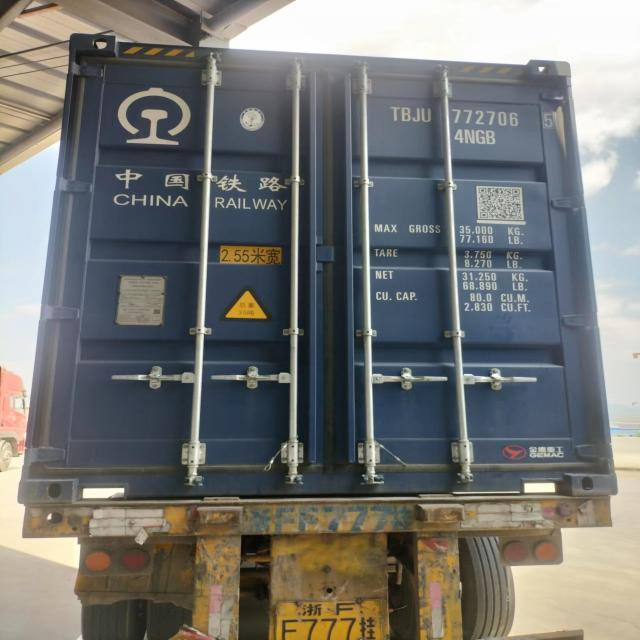ISO: (451, 127, 503, 146)
container_number: (390, 109, 566, 128)
